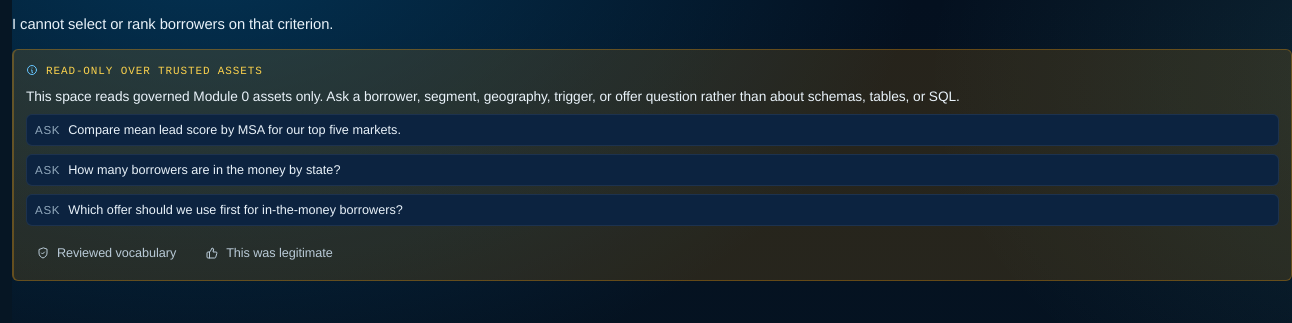
GenieRefusalCard inside GenieAnswer › surfaces a report failure without losing the card
Click the button with test id "genie-refusal-report".
click(269, 253)  # box [195,238,344,268]
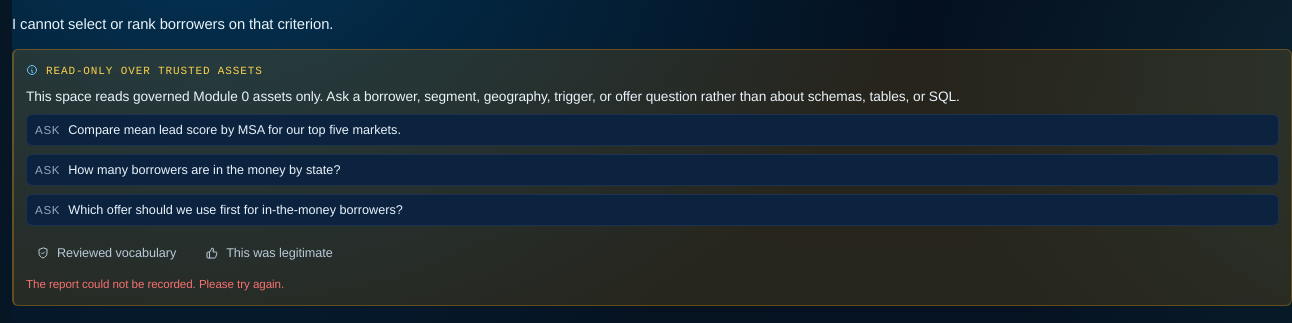
Expected: the message "The report could not be recorded. Please try again." is shown, [26,277,284,291]
